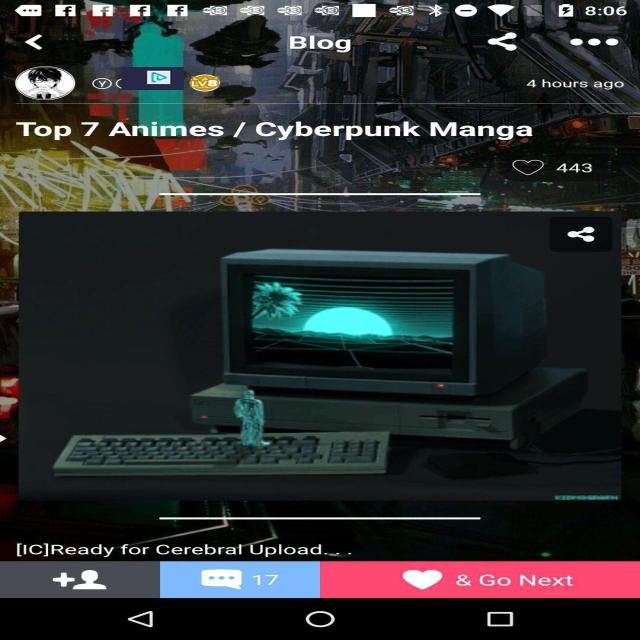sneaking: (122, 67, 184, 90)
